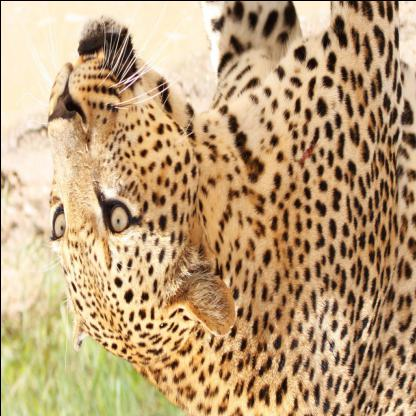leopard: (40, 21, 241, 397)
